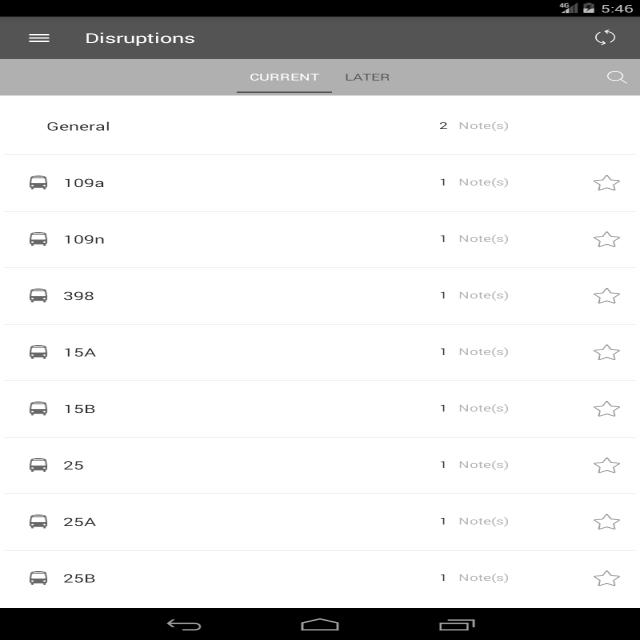ImageButton: (597, 66, 637, 90), (586, 26, 627, 48), (18, 31, 58, 46)
ImageView: (21, 283, 59, 307), (22, 169, 52, 193), (23, 509, 54, 532), (24, 398, 54, 420)
TextView: (76, 28, 205, 46), (38, 114, 125, 134), (452, 343, 525, 365), (241, 64, 328, 82), (454, 170, 516, 192), (57, 170, 111, 193), (456, 511, 517, 531), (63, 566, 103, 587), (59, 453, 95, 473)
